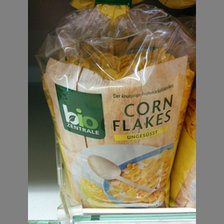cereal: (35, 7, 196, 207)
